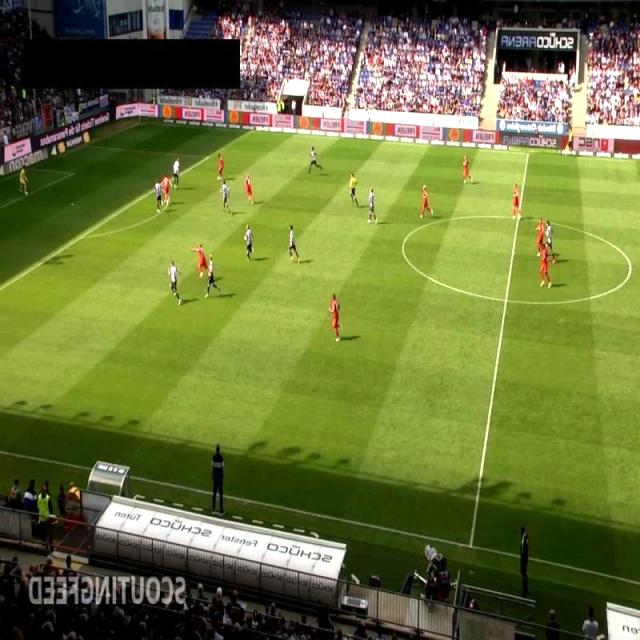bigarea_top_inner: (201, 150, 217, 163)
bigarea_top_outter: (78, 141, 90, 152)
bottom_arc_area_intersection: (74, 230, 85, 242)
corner: (135, 118, 146, 128)
halfcircle_bottom: (499, 294, 513, 307)
halfcircle_top: (512, 212, 526, 222)
midline_bottom_intersection: (462, 538, 482, 556)
midline_top_intersection: (522, 148, 533, 158)
smallarea_top_inner: (70, 168, 80, 179)
smallarea_top_outter: (24, 163, 35, 174)
top_arc_area_intersection: (150, 184, 161, 196)
